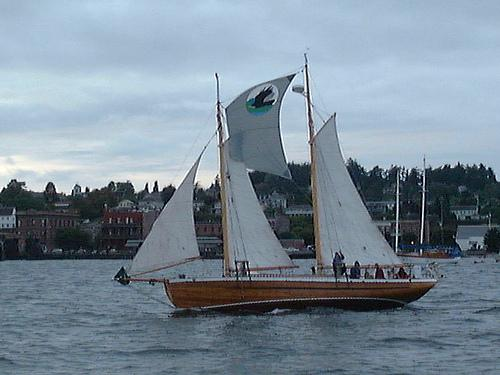Ship: (114, 55, 440, 315)
